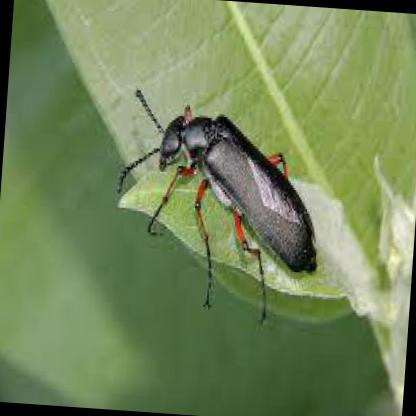blister beetle: (159, 115, 318, 269)
